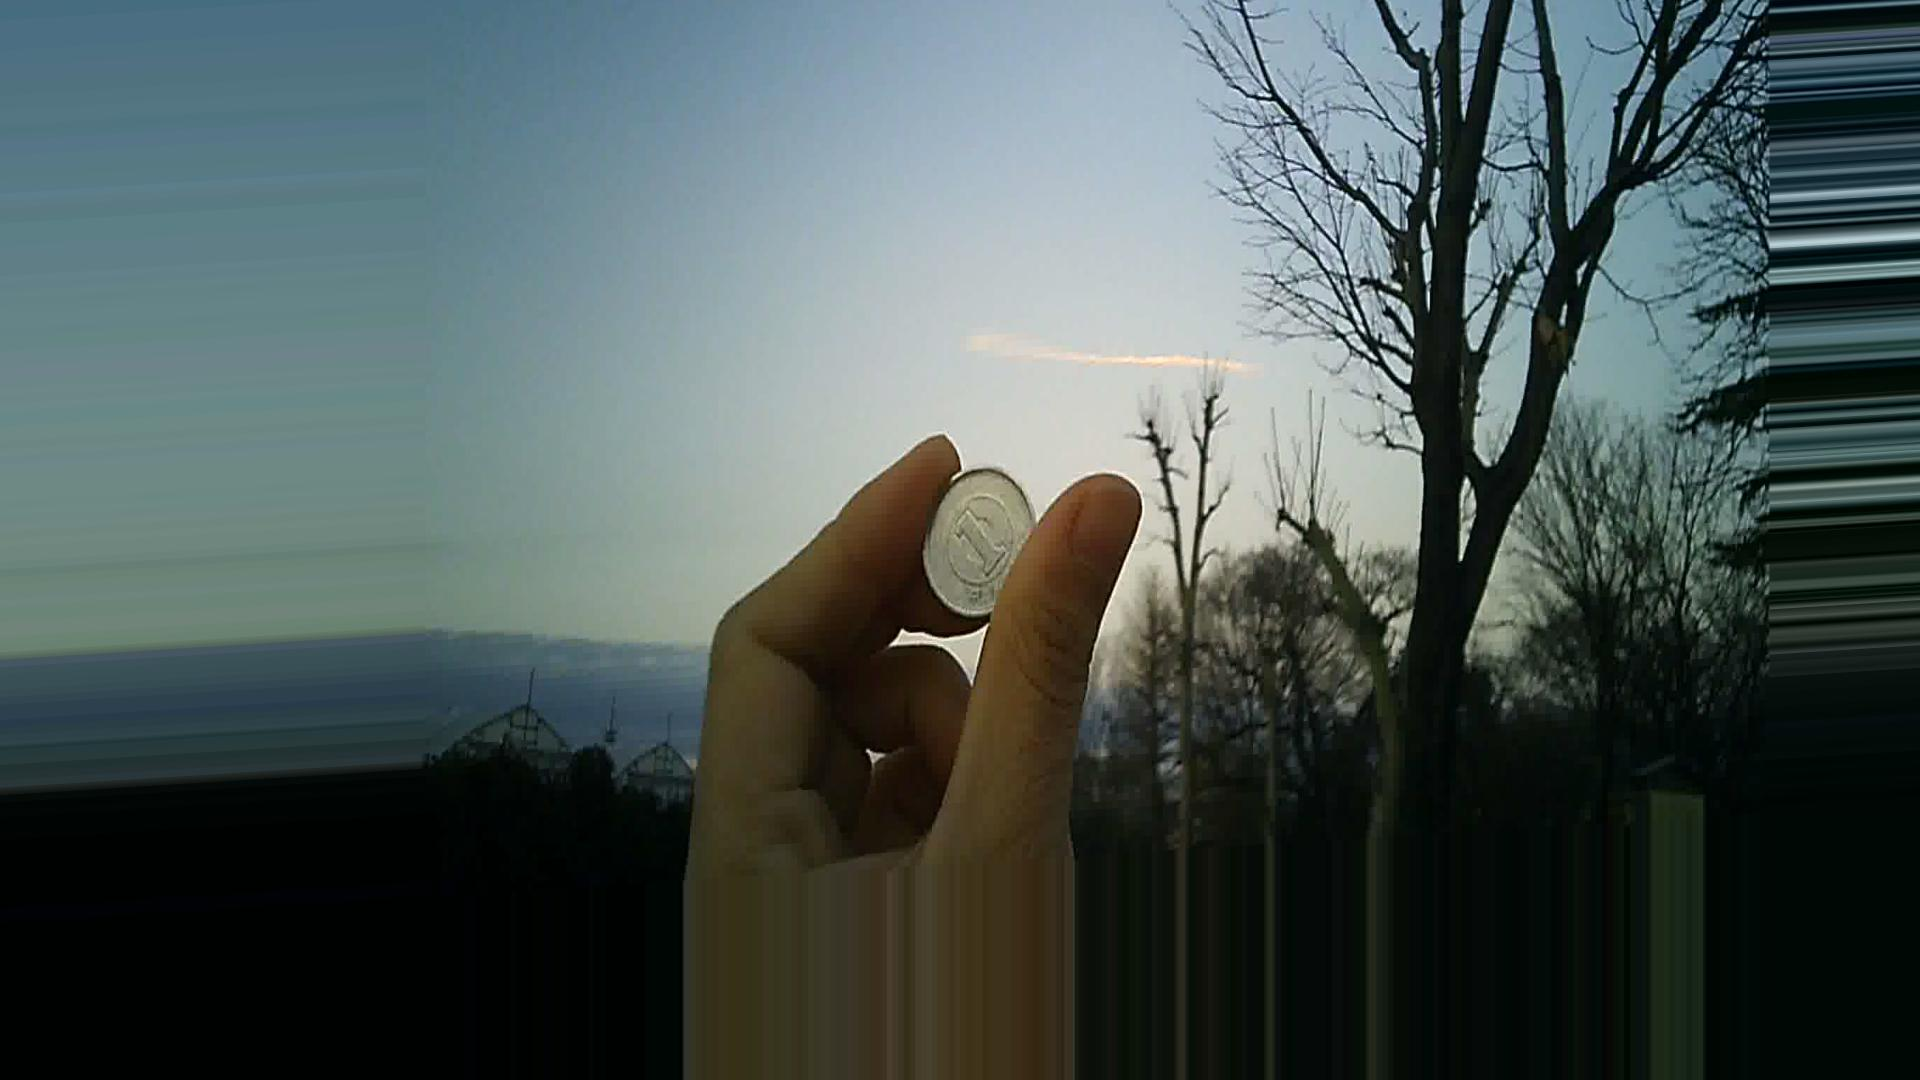1 Yen: (918, 458, 1042, 638)
